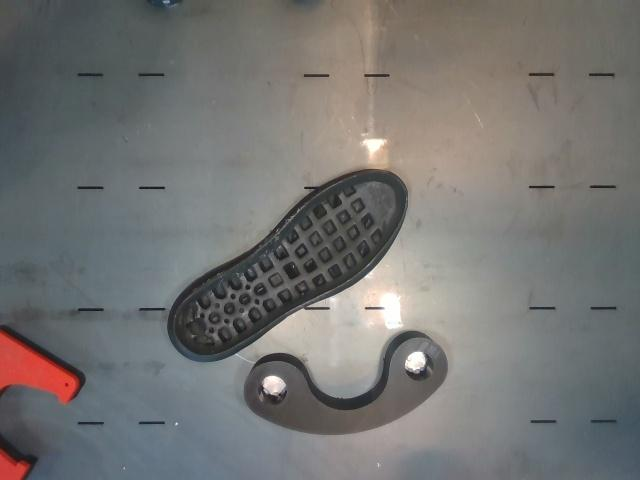shoes: (174, 173, 406, 355)
